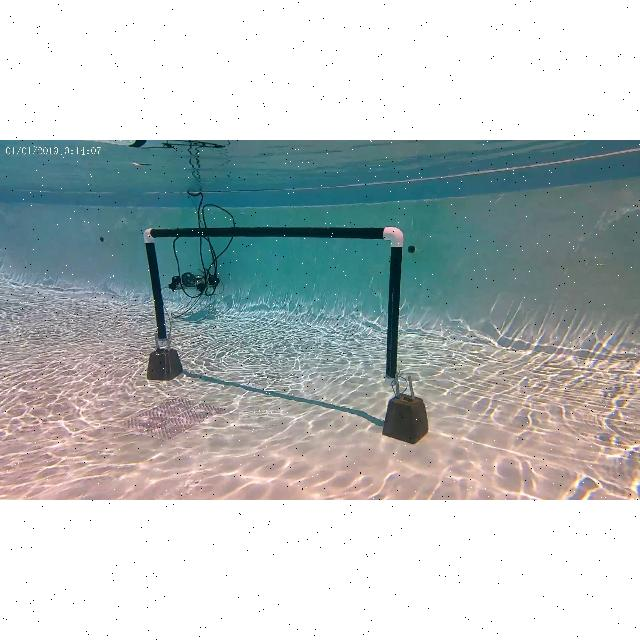prequal gate: (142, 226, 406, 384)
prequal gate leg l: (142, 225, 172, 351)
prequal gate leg r: (381, 225, 404, 382)
